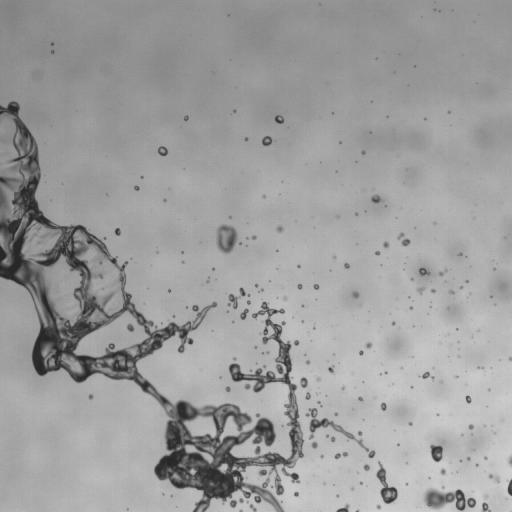droplet: (216, 224, 238, 253), (430, 444, 443, 462), (397, 232, 410, 246), (262, 136, 275, 146), (418, 267, 432, 276), (32, 189, 43, 200), (389, 238, 400, 249), (427, 262, 438, 273), (415, 275, 426, 286), (429, 275, 440, 286), (217, 295, 228, 306), (154, 319, 165, 330), (169, 334, 180, 345), (267, 340, 278, 351), (135, 358, 146, 369), (266, 361, 277, 372), (139, 368, 150, 379), (289, 372, 300, 383), (127, 380, 138, 391), (294, 387, 305, 398), (142, 392, 153, 403), (224, 393, 235, 404), (190, 397, 201, 408), (297, 402, 308, 413), (158, 413, 169, 424), (298, 416, 309, 427), (346, 440, 357, 451), (300, 441, 311, 452), (268, 442, 279, 453), (280, 475, 291, 486), (192, 488, 203, 499), (414, 491, 425, 502), (209, 496, 220, 507), (238, 500, 249, 511), (258, 500, 269, 511), (488, 473, 500, 483), (371, 194, 384, 203), (298, 377, 308, 388), (444, 501, 455, 511), (157, 146, 167, 156), (240, 308, 249, 319), (480, 502, 491, 511), (416, 285, 425, 295), (381, 503, 392, 511), (22, 117, 31, 126), (235, 232, 244, 241), (302, 281, 311, 290), (237, 296, 246, 305), (251, 302, 260, 311), (187, 310, 196, 319), (270, 313, 279, 322), (30, 328, 39, 337), (279, 332, 288, 341), (25, 341, 34, 350), (287, 348, 296, 357), (25, 361, 34, 370), (223, 374, 232, 383), (280, 383, 289, 392), (157, 386, 166, 395), (169, 395, 178, 404), (150, 398, 159, 407), (307, 398, 316, 407), (158, 422, 167, 431), (243, 422, 252, 431), (260, 444, 269, 453), (281, 449, 290, 458), (274, 115, 284, 123), (126, 323, 134, 332), (364, 341, 372, 350), (305, 389, 312, 399), (0, 125, 6, 136), (505, 468, 511, 479), (222, 505, 233, 511), (264, 505, 275, 511), (438, 505, 449, 511), (470, 505, 481, 511), (310, 441, 318, 449), (276, 224, 283, 233), (382, 241, 389, 249), (351, 291, 359, 298), (0, 141, 5, 152), (0, 234, 5, 245), (0, 275, 5, 286), (328, 365, 334, 374), (380, 402, 386, 411), (114, 228, 121, 235), (363, 464, 370, 471), (440, 468, 447, 475), (17, 109, 24, 116), (27, 125, 34, 132), (36, 153, 43, 160), (36, 181, 43, 188), (373, 188, 380, 195), (37, 203, 44, 210), (43, 211, 50, 218), (225, 219, 232, 226), (210, 236, 217, 243), (232, 242, 239, 249), (376, 243, 383, 250), (216, 249, 223, 256), (116, 258, 123, 265), (124, 276, 131, 283), (6, 278, 13, 285), (15, 283, 22, 290), (123, 285, 130, 292), (423, 288, 430, 295), (233, 289, 240, 296), (135, 305, 142, 312), (236, 305, 243, 312), (175, 319, 182, 326), (186, 331, 193, 338), (152, 348, 159, 355), (145, 353, 152, 360), (239, 366, 246, 373), (58, 367, 65, 374), (45, 370, 52, 377), (274, 371, 281, 378), (224, 372, 231, 379), (87, 374, 94, 381), (147, 376, 154, 383), (67, 377, 74, 384), (238, 379, 245, 386), (264, 381, 271, 388), (134, 384, 141, 391), (162, 391, 169, 398), (317, 393, 324, 400), (180, 394, 187, 401), (212, 400, 219, 407), (247, 410, 254, 417), (315, 413, 322, 420), (163, 414, 170, 421), (268, 415, 275, 422), (332, 417, 339, 424), (272, 425, 279, 432), (315, 426, 322, 433), (334, 431, 341, 438), (284, 437, 291, 444), (258, 440, 265, 447), (313, 447, 320, 454), (470, 456, 477, 463), (152, 457, 159, 464), (365, 457, 372, 464), (477, 457, 484, 464), (501, 458, 508, 465), (436, 460, 443, 467), (275, 462, 282, 469), (286, 466, 293, 473), (150, 473, 157, 480), (163, 478, 170, 485), (487, 478, 494, 485), (170, 485, 177, 492), (449, 485, 456, 492), (182, 486, 189, 493), (376, 496, 383, 503), (465, 395, 471, 403), (316, 399, 322, 407), (427, 506, 436, 511), (462, 506, 471, 511), (448, 289, 456, 294), (293, 339, 299, 345), (134, 185, 139, 191), (374, 250, 380, 255), (344, 262, 349, 268), (297, 283, 302, 289), (313, 284, 319, 289), (430, 288, 436, 293), (282, 295, 287, 301), (358, 350, 364, 355), (225, 386, 230, 392), (468, 424, 474, 429), (330, 436, 335, 442), (293, 491, 298, 497), (483, 493, 488, 499), (230, 507, 237, 511), (347, 507, 354, 511), (305, 359, 310, 364), (453, 374, 458, 379), (316, 376, 321, 381), (88, 394, 93, 399), (358, 396, 363, 401), (376, 504, 381, 509), (51, 44, 56, 49), (2, 102, 7, 107), (257, 139, 262, 144), (265, 144, 270, 149), (13, 152, 18, 157), (157, 154, 162, 159), (369, 191, 374, 196), (379, 194, 384, 199), (370, 201, 375, 206), (376, 201, 381, 206), (357, 209, 362, 214), (59, 221, 64, 226), (72, 221, 77, 226), (80, 221, 85, 226), (272, 223, 277, 228), (281, 223, 286, 228), (119, 227, 124, 232), (87, 228, 92, 233), (394, 230, 399, 235), (278, 231, 283, 236), (97, 234, 102, 239), (383, 236, 388, 241), (247, 238, 252, 243), (406, 243, 411, 248), (110, 252, 115, 257), (179, 254, 184, 259), (439, 266, 444, 271), (442, 272, 447, 277), (209, 277, 214, 282), (462, 282, 467, 287), (257, 283, 262, 288), (352, 286, 357, 291), (452, 286, 457, 291), (243, 287, 248, 292), (347, 289, 352, 294), (358, 291, 363, 296), (278, 293, 283, 298), (129, 297, 134, 302), (352, 297, 357, 302), (490, 297, 495, 302), (206, 300, 211, 305), (187, 303, 192, 308), (243, 303, 248, 308), (267, 303, 272, 308), (228, 305, 233, 310), (209, 306, 214, 311), (245, 312, 250, 317), (263, 312, 268, 317), (144, 315, 149, 320), (162, 322, 167, 327), (260, 322, 265, 327), (281, 324, 286, 329), (196, 325, 201, 330), (365, 337, 370, 342), (289, 340, 294, 345), (183, 342, 188, 347), (370, 344, 375, 349), (362, 347, 367, 352), (303, 355, 308, 360), (229, 359, 234, 364), (326, 362, 331, 367), (256, 363, 261, 368), (290, 364, 295, 369), (224, 367, 229, 372), (419, 369, 424, 374), (260, 370, 265, 375), (429, 370, 434, 375), (287, 371, 292, 376), (105, 376, 110, 381), (425, 376, 430, 381), (111, 378, 116, 383), (289, 378, 294, 383), (129, 379, 134, 384), (306, 380, 311, 385), (248, 386, 253, 391), (259, 388, 264, 393), (309, 390, 314, 395), (469, 394, 474, 399), (233, 400, 238, 405), (314, 403, 319, 408), (376, 405, 381, 410), (282, 406, 287, 411), (297, 410, 302, 415), (259, 413, 264, 418), (307, 415, 312, 420), (327, 416, 332, 421), (285, 417, 290, 422), (467, 419, 472, 424), (326, 424, 331, 429), (286, 425, 291, 430), (343, 426, 348, 431), (471, 427, 476, 432), (466, 428, 471, 433), (360, 433, 365, 438), (341, 434, 346, 439), (354, 434, 359, 439), (273, 436, 278, 441), (348, 438, 353, 443), (316, 441, 321, 446), (433, 441, 438, 446), (426, 447, 431, 452), (441, 449, 446, 454), (363, 451, 368, 456), (426, 451, 431, 456), (373, 453, 378, 458), (461, 456, 466, 461), (382, 464, 387, 469), (375, 465, 380, 470), (359, 466, 364, 471), (444, 467, 449, 472), (490, 469, 495, 474), (278, 471, 283, 476), (483, 472, 488, 477), (438, 473, 443, 478), (286, 475, 291, 480), (297, 475, 302, 480), (374, 477, 379, 482), (387, 482, 392, 487), (503, 482, 508, 487), (378, 483, 383, 488), (393, 483, 398, 488), (396, 489, 401, 494), (503, 490, 508, 495), (274, 494, 279, 499), (463, 494, 468, 499), (472, 494, 477, 499), (260, 498, 265, 503), (393, 498, 398, 503), (484, 498, 489, 503), (235, 501, 240, 506), (252, 501, 257, 506), (388, 501, 393, 506), (279, 502, 284, 507), (339, 503, 344, 508), (190, 504, 195, 509), (184, 115, 188, 121), (251, 235, 257, 239), (332, 253, 336, 259), (246, 299, 250, 305), (244, 137, 249, 141), (258, 288, 263, 292), (341, 385, 345, 390), (334, 412, 338, 417), (466, 456, 470, 461), (232, 109, 236, 113), (361, 150, 365, 154), (262, 194, 266, 198), (228, 215, 232, 219), (432, 221, 436, 225), (492, 267, 496, 271), (410, 277, 414, 281), (254, 283, 258, 287), (459, 285, 463, 289), (391, 321, 395, 325), (439, 379, 443, 383), (408, 421, 412, 425), (483, 456, 487, 460), (359, 481, 363, 485), (350, 486, 354, 490), (254, 344, 257, 349), (508, 356, 511, 361), (315, 392, 320, 395), (325, 434, 328, 439), (508, 360, 511, 365), (204, 508, 209, 511), (248, 508, 253, 511), (374, 508, 379, 511), (51, 50, 54, 54), (447, 110, 451, 113), (163, 198, 166, 202), (354, 212, 358, 215), (245, 236, 249, 239), (458, 252, 462, 255), (181, 260, 185, 263), (297, 264, 300, 268), (212, 267, 215, 271), (167, 289, 171, 292), (489, 295, 493, 298), (301, 304, 305, 307), (185, 306, 189, 309), (409, 306, 413, 309), (172, 314, 175, 318), (457, 354, 460, 358), (492, 431, 496, 434), (320, 454, 323, 458), (475, 463, 478, 467), (356, 470, 359, 474), (433, 8, 436, 11), (51, 42, 54, 45), (336, 215, 339, 218), (238, 242, 241, 245), (275, 249, 278, 252), (465, 280, 468, 283), (301, 320, 304, 323), (498, 358, 501, 361), (400, 366, 403, 369), (384, 371, 387, 374), (379, 372, 382, 375), (219, 376, 222, 379), (373, 396, 376, 399), (483, 424, 486, 427), (460, 433, 463, 436), (396, 443, 399, 446), (459, 459, 462, 462), (323, 482, 326, 485), (405, 482, 408, 485), (170, 494, 173, 497), (336, 494, 339, 497), (505, 497, 508, 500), (435, 9, 438, 12), (47, 41, 50, 44), (53, 41, 56, 44), (53, 50, 56, 53), (50, 53, 53, 56), (415, 64, 418, 67), (232, 106, 235, 109), (447, 107, 450, 110), (330, 108, 333, 111), (229, 109, 232, 112), (444, 109, 447, 112), (235, 110, 238, 113), (183, 112, 186, 115), (231, 112, 234, 115), (328, 112, 331, 115), (447, 113, 450, 116), (188, 115, 191, 118), (180, 117, 183, 120), (420, 117, 423, 120), (186, 119, 189, 122), (283, 119, 286, 122), (424, 119, 427, 122), (276, 122, 279, 125), (263, 133, 266, 136), (267, 133, 270, 136), (246, 134, 249, 137), (241, 136, 244, 139), (270, 136, 273, 139), (247, 138, 250, 141), (244, 140, 247, 143), (335, 140, 338, 143), (341, 140, 344, 143), (338, 143, 341, 146), (163, 144, 166, 147), (166, 147, 169, 150), (154, 148, 157, 151), (364, 149, 367, 152), (358, 151, 361, 154), (165, 153, 168, 156), (362, 154, 365, 157), (161, 155, 164, 158), (140, 172, 143, 175), (143, 175, 146, 178), (135, 182, 138, 185), (138, 185, 141, 188), (133, 189, 136, 192), (265, 194, 268, 197), (160, 196, 163, 199), (165, 196, 168, 199), (261, 197, 264, 200), (162, 201, 165, 204), (228, 212, 231, 215), (351, 212, 354, 215), (231, 215, 234, 218), (354, 215, 357, 218), (112, 227, 115, 230), (401, 229, 404, 232), (112, 231, 115, 234), (252, 232, 255, 235), (248, 236, 251, 239), (255, 237, 258, 240), (101, 239, 104, 242), (252, 239, 255, 242), (274, 246, 277, 249), (180, 247, 183, 250), (373, 248, 376, 251), (177, 250, 180, 253), (183, 250, 186, 253), (456, 250, 459, 253), (275, 251, 278, 254), (335, 253, 338, 256), (374, 254, 377, 257), (461, 254, 464, 257), (458, 255, 461, 258), (127, 260, 130, 263), (346, 260, 349, 263), (297, 261, 300, 264), (181, 263, 184, 266), (210, 264, 213, 267), (275, 264, 278, 267), (300, 264, 303, 267), (420, 264, 423, 267), (494, 264, 497, 267), (341, 265, 344, 268), (123, 266, 126, 269), (214, 266, 217, 269), (348, 266, 351, 269), (446, 266, 449, 269), (208, 267, 211, 270), (296, 267, 299, 270), (344, 267, 347, 270), (489, 267, 492, 270), (213, 269, 216, 272), (494, 269, 497, 272), (416, 271, 419, 274), (424, 273, 427, 276), (204, 276, 207, 279), (267, 276, 270, 279), (407, 276, 410, 279), (465, 276, 468, 279), (298, 280, 301, 283), (314, 280, 317, 283), (207, 282, 210, 285), (239, 284, 242, 287), (301, 284, 304, 287), (318, 284, 321, 287), (252, 285, 255, 288), (294, 285, 297, 288), (310, 285, 313, 288), (433, 286, 436, 289), (461, 287, 464, 290), (164, 288, 167, 291), (170, 288, 173, 291), (263, 288, 266, 291), (299, 288, 302, 291), (312, 288, 315, 291), (259, 290, 262, 293), (421, 290, 424, 293), (227, 291, 230, 294), (416, 291, 419, 294), (407, 292, 410, 295), (430, 292, 433, 295), (465, 292, 468, 295), (490, 292, 493, 295), (450, 293, 453, 296), (404, 295, 407, 298), (492, 295, 495, 298), (410, 296, 413, 299), (488, 297, 491, 300), (29, 298, 32, 301), (262, 298, 265, 301), (265, 299, 268, 302), (192, 301, 195, 304), (301, 301, 304, 304), (428, 302, 431, 305), (216, 303, 219, 306), (410, 303, 413, 306), (182, 305, 185, 308), (406, 305, 409, 308), (431, 305, 434, 308), (300, 306, 303, 309), (276, 307, 279, 310), (283, 307, 286, 310), (407, 308, 410, 311), (300, 316, 303, 319), (202, 317, 205, 320), (251, 317, 254, 320), (303, 319, 306, 322), (228, 320, 231, 323), (298, 321, 301, 324), (388, 321, 391, 324), (231, 322, 234, 325), (394, 322, 397, 325), (314, 324, 317, 327), (455, 324, 458, 327), (309, 325, 312, 328), (452, 327, 455, 330), (455, 330, 458, 333), (260, 333, 263, 336), (296, 337, 299, 340), (298, 341, 301, 344), (191, 342, 194, 345), (251, 344, 254, 347), (176, 351, 179, 354), (258, 352, 261, 355), (356, 352, 359, 355), (359, 354, 362, 357), (505, 356, 508, 359), (309, 359, 312, 362), (308, 362, 311, 365), (304, 363, 307, 366), (478, 363, 481, 366), (332, 367, 335, 370), (483, 367, 486, 370), (478, 368, 481, 371), (326, 369, 329, 372), (387, 370, 390, 373), (376, 371, 379, 374), (381, 371, 384, 374), (456, 372, 459, 375), (377, 374, 380, 377), (305, 376, 308, 379), (419, 376, 422, 379), (216, 377, 219, 380), (433, 377, 436, 380), (455, 377, 458, 380), (363, 378, 366, 381), (358, 380, 361, 383), (388, 381, 391, 384), (410, 382, 413, 385), (223, 384, 226, 387), (339, 384, 342, 387), (344, 386, 347, 389), (408, 387, 411, 390), (411, 387, 414, 390), (490, 387, 493, 390), (484, 388, 487, 391), (89, 391, 92, 394), (225, 391, 228, 394), (487, 391, 490, 394), (465, 392, 468, 395), (92, 394, 95, 397), (360, 394, 363, 397), (85, 395, 88, 398), (354, 396, 357, 399), (462, 397, 465, 400), (89, 398, 92, 401), (358, 400, 361, 403), (319, 401, 322, 404), (378, 401, 381, 404), (467, 402, 470, 405), (385, 404, 388, 407), (335, 409, 338, 412), (437, 410, 440, 413), (337, 412, 340, 415), (435, 415, 438, 418), (408, 418, 411, 421), (411, 421, 414, 424), (407, 424, 410, 427), (465, 425, 468, 428), (359, 428, 362, 431), (492, 428, 495, 431), (361, 431, 364, 434), (328, 434, 331, 437), (331, 441, 334, 444), (393, 442, 396, 445), (399, 442, 402, 445), (396, 445, 399, 448), (361, 447, 364, 450), (343, 448, 346, 451), (374, 449, 377, 452), (333, 451, 336, 454), (466, 453, 469, 456), (323, 454, 326, 457), (331, 454, 334, 457), (340, 454, 343, 457), (486, 454, 489, 457), (317, 455, 320, 458), (345, 455, 348, 458), (469, 456, 472, 459), (483, 459, 486, 462), (379, 460, 382, 463), (407, 460, 410, 463), (456, 460, 459, 463), (475, 460, 478, 463), (472, 463, 475, 466), (476, 465, 479, 468), (452, 470, 455, 473), (428, 473, 431, 476), (424, 475, 427, 478), (359, 478, 362, 481), (404, 479, 407, 482), (331, 480, 334, 483), (362, 482, 365, 485), (407, 482, 410, 485), (357, 483, 360, 486), (337, 491, 340, 494), (158, 492, 161, 495), (297, 492, 300, 495), (293, 495, 296, 498), (239, 509, 243, 511), (355, 509, 359, 511), (370, 100, 372, 103), (331, 112, 334, 114), (424, 117, 426, 120), (339, 141, 341, 144), (140, 176, 143, 178), (105, 193, 108, 195), (384, 205, 387, 207), (156, 251, 159, 253), (181, 251, 183, 254), (493, 303, 496, 305), (429, 305, 431, 308), (447, 306, 449, 309), (226, 310, 229, 312), (232, 320, 234, 323), (471, 335, 473, 338), (457, 341, 460, 343), (332, 353, 335, 355), (432, 366, 434, 369), (410, 386, 413, 388), (488, 388, 490, 391), (436, 413, 439, 415), (281, 424, 283, 427), (162, 492, 164, 495), (126, 507, 128, 510), (509, 353, 511, 356), (124, 509, 127, 511), (127, 509, 130, 511), (358, 509, 361, 511), (457, 509, 460, 511), (438, 10, 440, 12), (375, 57, 377, 59), (386, 115, 388, 117), (369, 131, 371, 133), (335, 170, 337, 172), (281, 181, 283, 183), (329, 269, 331, 271), (268, 280, 270, 282), (276, 296, 278, 298), (408, 296, 410, 298), (412, 325, 414, 327), (456, 328, 458, 330), (477, 329, 479, 331), (304, 353, 306, 355), (327, 360, 329, 362), (255, 362, 257, 364), (490, 367, 492, 369), (362, 381, 364, 383), (325, 394, 327, 396), (501, 419, 503, 421), (471, 433, 473, 435), (449, 461, 451, 463), (405, 462, 407, 464), (456, 470, 458, 472), (428, 477, 430, 479), (414, 65, 415, 67), (130, 258, 132, 259), (380, 264, 382, 265), (315, 298, 316, 300), (292, 316, 293, 318), (161, 322, 162, 324), (392, 383, 394, 384), (486, 405, 487, 407), (352, 408, 353, 410), (362, 419, 364, 420), (509, 510, 511, 511), (355, 161, 356, 162), (277, 268, 278, 269), (212, 330, 213, 331)
ligament: (305, 408, 376, 458), (376, 460, 398, 503), (418, 371, 434, 381), (334, 451, 348, 459), (336, 503, 350, 511), (438, 267, 448, 276), (506, 478, 511, 496), (507, 454, 511, 467), (261, 350, 270, 355), (476, 366, 485, 371), (206, 276, 210, 283), (467, 292, 471, 298), (313, 322, 315, 329), (101, 287, 103, 291), (410, 356, 414, 358), (364, 210, 366, 213), (319, 510, 321, 511)
